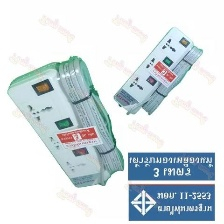three_eye_plug: (5, 59, 112, 188), (113, 24, 195, 119)
